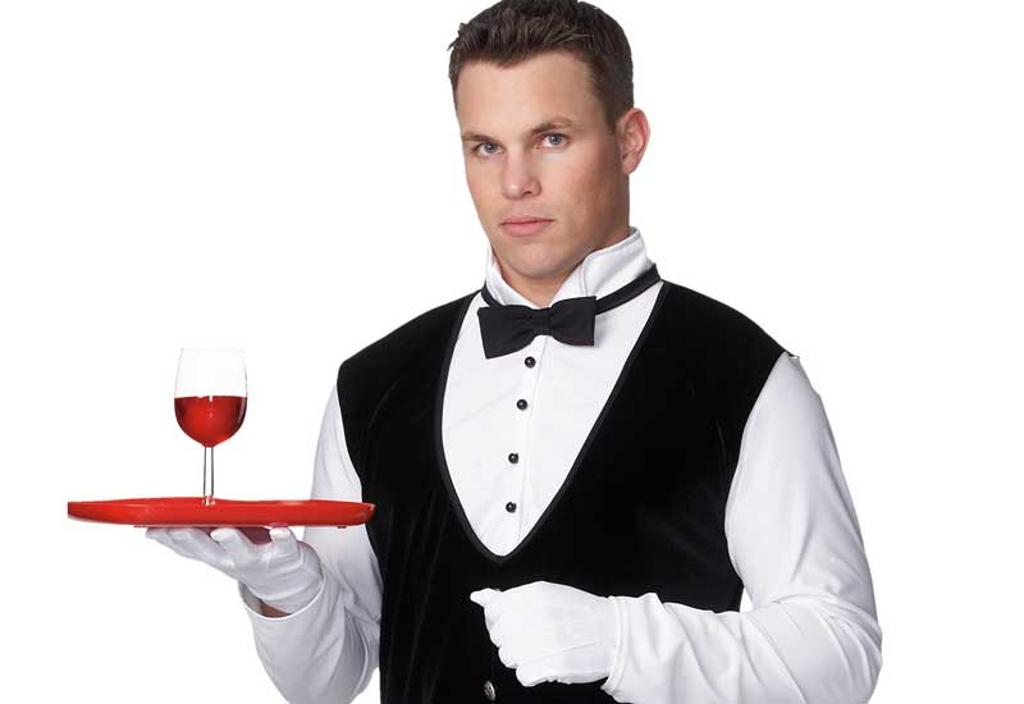face: (454, 50, 624, 280)
